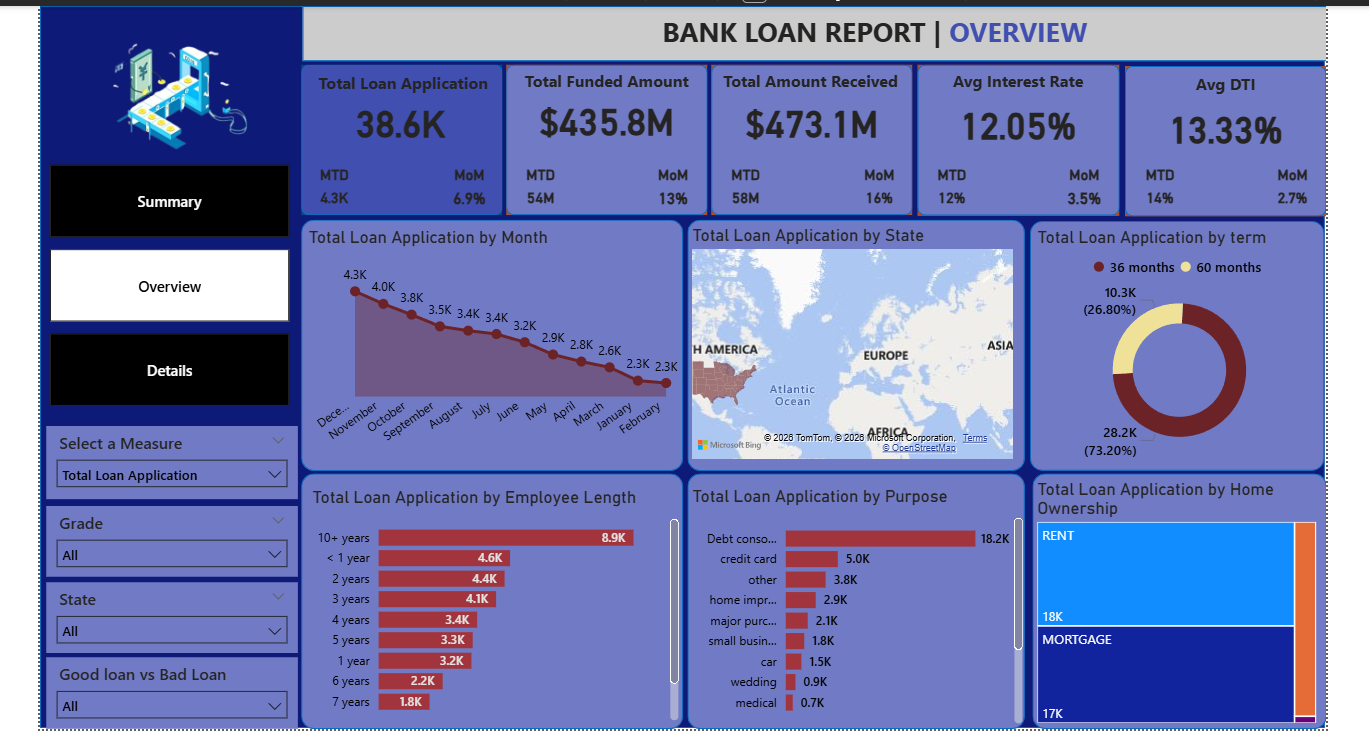

What the dashboard file says about the page in this screenshot:
{"tool":"powerbi","page":{"name":"Overview","canvas":[1280,720],"ordinal":1},"visuals":[{"type":"shape","box":[0,0,1278.6,718.6],"z":0},{"type":"shape","box":[985.7,214.3,292.9,248.6],"z":1000},{"type":"shape","box":[260,212.9,380,250],"z":2000},{"type":"shape","box":[260.7,0,1020,54.9],"z":3000},{"type":"shape","box":[260,58.8,200.4,149.6],"z":4000},{"type":"textbox","box":[380.1,2.7,900.2,52.1],"z":5000},{"type":"card","title":"MTD","fields":{"Values":["financial_loan.MTD Loan Application"]},"box":[266.2,159.2,53.5,49.4],"z":6000},{"type":"card","title":"Total Loan Applications","fields":{"Values":["financial_loan.Total Loan Application"]},"box":[259.3,91.9,200.3,49.4],"z":7000},{"type":"card","title":"MoM","fields":{"Values":["financial_loan.MoM Loan Application"]},"box":[400.7,159.2,53.5,49.4],"z":8000},{"type":"textbox","box":[260.8,59.2,200.4,37.3],"z":9000},{"type":"shape","box":[464.2,58.8,200.4,149.6],"z":10000},{"type":"card","title":"MTD","fields":{"Values":["financial_loan.MTD Funded Amount"]},"box":[472,159.2,53.5,49.4],"z":11000},{"type":"card","title":"Total Loan Applications","fields":{"Values":["financial_loan.Total Funded Amount"]},"box":[464.4,91.1,200,48.9],"z":12000},{"type":"card","title":"MoM","fields":{"Values":["financial_loan.MoM Funded Amount"]},"box":[603.8,159.2,53.5,49.4],"z":13000},{"type":"textbox","box":[464.4,58.9,200,37.8],"z":14000},{"type":"shape","box":[668.5,58.8,200.4,149.6],"z":15000},{"type":"card","title":"MTD","fields":{"Values":["financial_loan.MTD Amount Received"]},"box":[675.1,159.2,53.5,49.4],"z":16000},{"type":"card","title":"Total Loan Applications","fields":{"Values":["Sum(financial_loan.total_payment)"]},"box":[668.3,91.9,200.3,49.4],"z":17000},{"type":"card","title":"MoM","fields":{"Values":["financial_loan.MoM Amount Received"]},"box":[808.2,159.2,53.5,49.4],"z":18000},{"type":"textbox","box":[666.9,59,200.3,37],"z":19000},{"type":"shape","box":[872.7,58.8,201.2,150],"z":20000},{"type":"card","title":"MTD","fields":{"Values":["financial_loan.MTD Interest Rate"]},"box":[881,159.2,53.5,49.4],"z":21000},{"type":"card","title":"Total Loan Applications","fields":{"Values":["Avg(financial_loan.int_rate)"]},"box":[872.7,94.7,200.3,49.4],"z":22000},{"type":"card","title":"MoM","fields":{"Values":["financial_loan.MoM Interest Rate"]},"box":[1012.7,159.2,53.5,49.4],"z":23000},{"type":"textbox","box":[872.7,59,200.3,37],"z":24000},{"type":"shape","box":[1079.6,59.2,200.4,149.6],"z":25000},{"type":"card","title":"MTD","fields":{"Values":["financial_loan.MTD DTI"]},"box":[1086.8,159.2,54.9,49.4],"z":26000},{"type":"card","title":"Total Loan Applications","fields":{"Values":["Avg(financial_loan.dti)"]},"box":[1079.4,98.7,200.3,49.4],"z":27000},{"type":"card","title":"MoM","fields":{"Values":["financial_loan.MoM DTI"]},"box":[1218.5,159.2,54.9,49.4],"z":28000},{"type":"textbox","box":[1079.6,60.4,200.3,37],"z":29000},{"type":"slicer","fields":{"Values":["financial_loan.address_state"]},"box":[5.7,572.9,250,70],"z":30000},{"type":"slicer","fields":{"Values":["financial_loan.Good loan vs Bad Loan"]},"box":[5.7,648.6,250,71.4],"z":31000},{"type":"slicer","fields":{"Values":["financial_loan.sub_grade"]},"box":[5.7,497.1,250,70],"z":32000},{"type":"slicer","fields":{"Values":["Select a Measure.Select a Measure"]},"box":[5.7,418.6,250,72.9],"z":33000},{"type":"shape","box":[644.3,212.9,335.7,250],"z":34000},{"type":"areaChart","fields":{"Y":["financial_loan.Total Loan Application"],"Category":["Date Table.Month"]},"box":[262.9,220,377.1,235.7],"z":35000},{"type":"filledMap","fields":{"Y":["financial_loan.Total Loan Application"],"Category":["financial_loan.address_state"]},"box":[644.3,217.1,328.6,238.6],"z":36000},{"type":"donutChart","fields":{"Y":["financial_loan.Total Loan Application"],"Category":["financial_loan.term"]},"box":[987.1,220,292.9,235.7],"z":37000},{"type":"shape","box":[260,465.7,380,254.3],"z":38000},{"type":"clusteredBarChart","fields":{"Y":["financial_loan.Total Loan Application"],"Category":["financial_loan.emp_length"]},"box":[265.7,478.6,374.3,237.1],"z":39000},{"type":"shape","box":[644.3,465.7,335.7,254.3],"z":40000},{"type":"shape","box":[987.1,465.7,292.9,254.3],"z":41000},{"type":"clusteredBarChart","fields":{"Y":["financial_loan.Total Loan Application"],"Category":["financial_loan.purpose"]},"box":[644.3,477.1,338.6,241.4],"z":42000},{"type":"treemap","fields":{"Values":["financial_loan.Total Loan Application"],"Group":["financial_loan.home_ownership"]},"box":[987.1,470,287.1,248.6],"z":43000},{"type":"pageNavigator","box":[10,158.6,238.6,240],"z":43001},{"type":"image","box":[41.4,1.4,175.7,178.6],"z":43002}]}

Visuals, with their boxes in screenshot pixels (x1, y1, x2, y2):
shape: left=32, top=0, right=1324, bottom=726
shape: left=1028, top=217, right=1324, bottom=468
shape: left=295, top=215, right=679, bottom=468
shape: left=296, top=0, right=1327, bottom=55
shape: left=295, top=59, right=497, bottom=211
textbox: left=416, top=3, right=1326, bottom=55
"MTD" card: left=301, top=161, right=355, bottom=211
"Total Loan Applications" card: left=294, top=93, right=497, bottom=143
"MoM" card: left=437, top=161, right=491, bottom=211
textbox: left=296, top=60, right=498, bottom=98
shape: left=501, top=59, right=704, bottom=211
"MTD" card: left=509, top=161, right=563, bottom=211
"Total Loan Applications" card: left=502, top=92, right=704, bottom=142
"MoM" card: left=642, top=161, right=696, bottom=211
textbox: left=502, top=60, right=704, bottom=98
shape: left=708, top=59, right=910, bottom=211
"MTD" card: left=714, top=161, right=769, bottom=211
"Total Loan Applications" card: left=708, top=93, right=910, bottom=143
"MoM" card: left=849, top=161, right=903, bottom=211
textbox: left=706, top=60, right=909, bottom=97
shape: left=914, top=59, right=1118, bottom=211
"MTD" card: left=923, top=161, right=977, bottom=211
"Total Loan Applications" card: left=914, top=96, right=1117, bottom=146
"MoM" card: left=1056, top=161, right=1110, bottom=211
textbox: left=914, top=60, right=1117, bottom=97
shape: left=1123, top=60, right=1326, bottom=211
"MTD" card: left=1131, top=161, right=1186, bottom=211
"Total Loan Applications" card: left=1123, top=100, right=1326, bottom=150
"MoM" card: left=1264, top=161, right=1319, bottom=211
textbox: left=1123, top=61, right=1326, bottom=98
slicer - financial_loan.address_state: left=38, top=579, right=291, bottom=650
slicer - financial_loan.Good loan vs Bad Loan: left=38, top=656, right=291, bottom=728
slicer - financial_loan.sub_grade: left=38, top=502, right=291, bottom=573
slicer - Select a Measure.Select a Measure: left=38, top=423, right=291, bottom=497
shape: left=683, top=215, right=1023, bottom=468
areaChart - financial_loan.Total Loan Application x Date Table.Month: left=298, top=222, right=679, bottom=461
filledMap - financial_loan.Total Loan Application x financial_loan.address_state: left=683, top=219, right=1015, bottom=461
donutChart - financial_loan.Total Loan Application x financial_loan.term: left=1030, top=222, right=1326, bottom=461
shape: left=295, top=471, right=679, bottom=728
clusteredBarChart - financial_loan.Total Loan Application x financial_loan.emp_length: left=301, top=484, right=679, bottom=723
shape: left=683, top=471, right=1023, bottom=728
shape: left=1030, top=471, right=1326, bottom=728
clusteredBarChart - financial_loan.Total Loan Application x financial_loan.purpose: left=683, top=482, right=1026, bottom=726
treemap - financial_loan.Total Loan Application x financial_loan.home_ownership: left=1030, top=475, right=1320, bottom=726
pageNavigator: left=42, top=160, right=283, bottom=403
image: left=74, top=1, right=252, bottom=182
